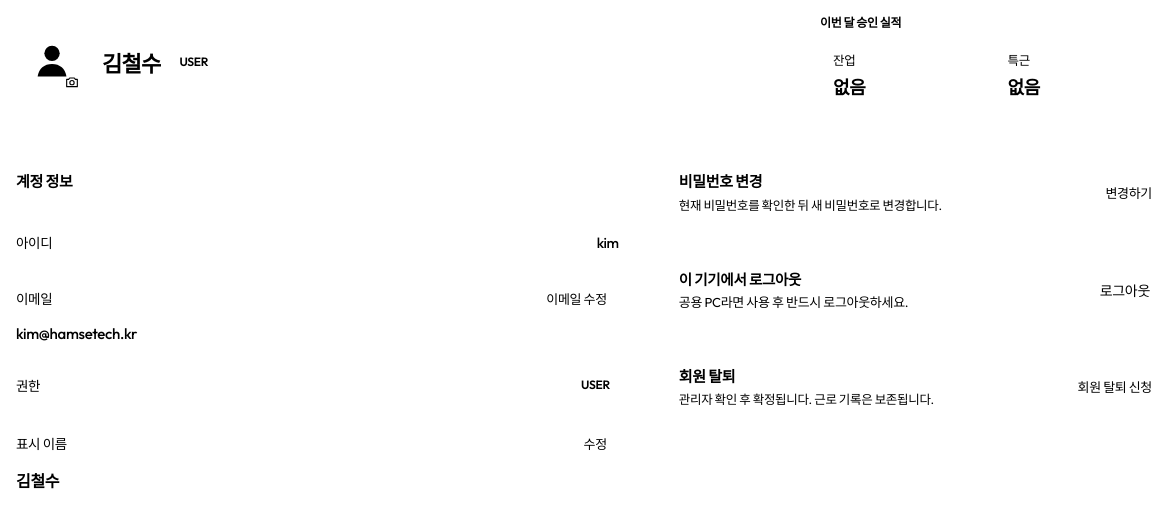
Test: ProfilePage — 표시 이름 › 취소하면 서버에 보내지 않는다
Expected: the text "김철수" in the row of "잔업" is shown, [102,50,160,78]
Click the button "수정".
click(595, 443)  # box [572,427,619,459]
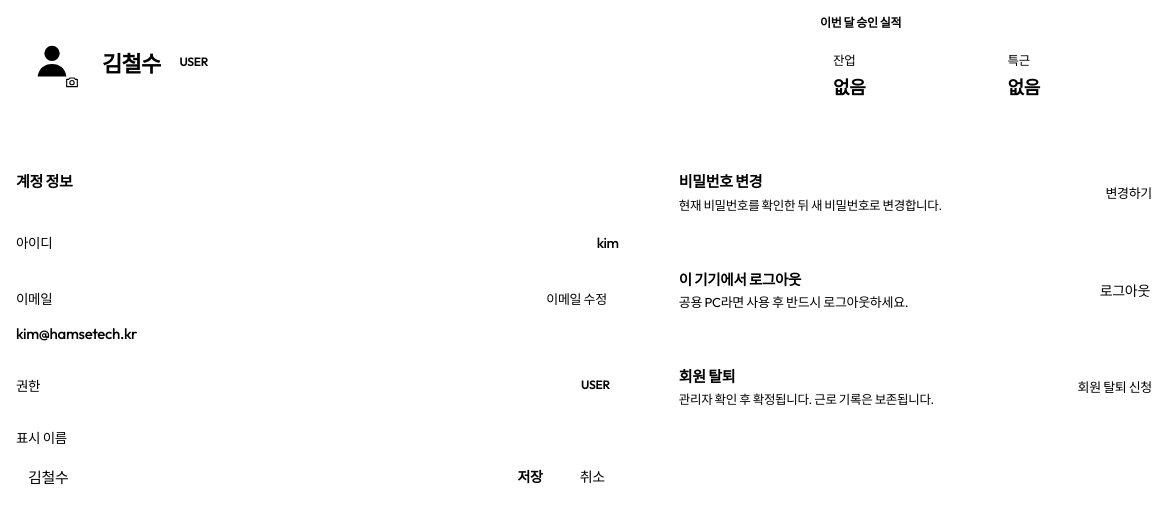
Replace the text in the field named "표시 이름" with "지운이름" at {"x": 255, "y": 476}, box [16,456,494,496]
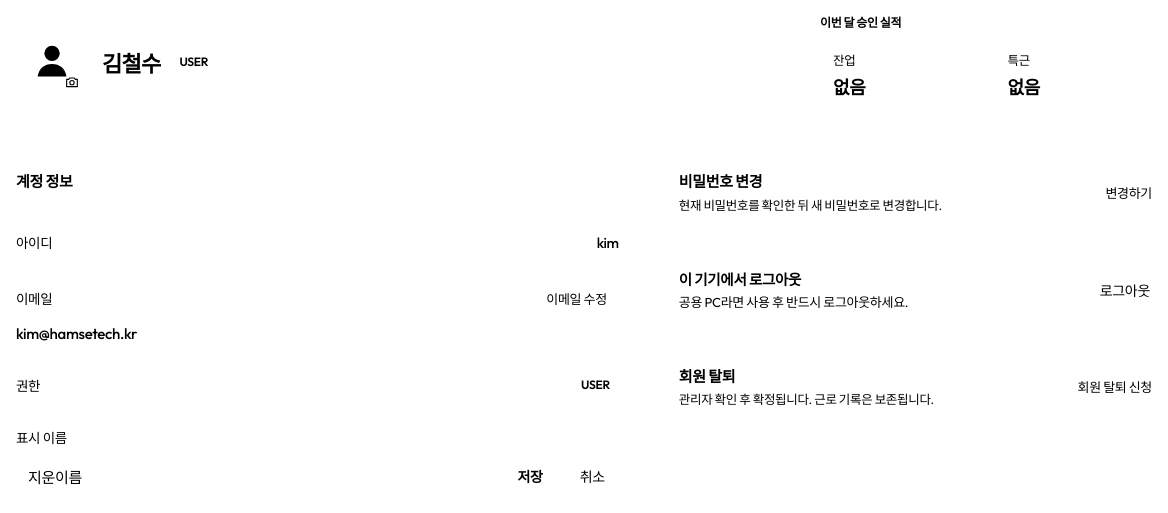
Click the button "취소".
click(592, 476)  # box [566,456,619,496]
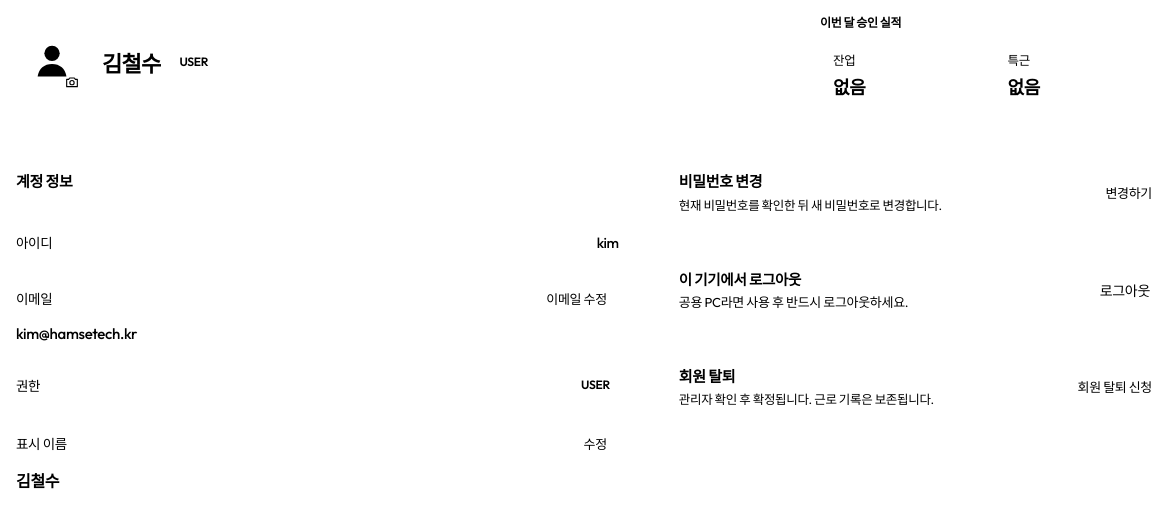
Now the text "김철수" below "표시 이름" is shown, box [16,471,59,491]
